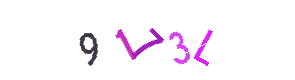1: (100, 0, 180, 80)
3: (107, 0, 187, 80)
7: (106, 0, 186, 80)
9: (49, 0, 129, 80)
L: (149, 0, 229, 80)
